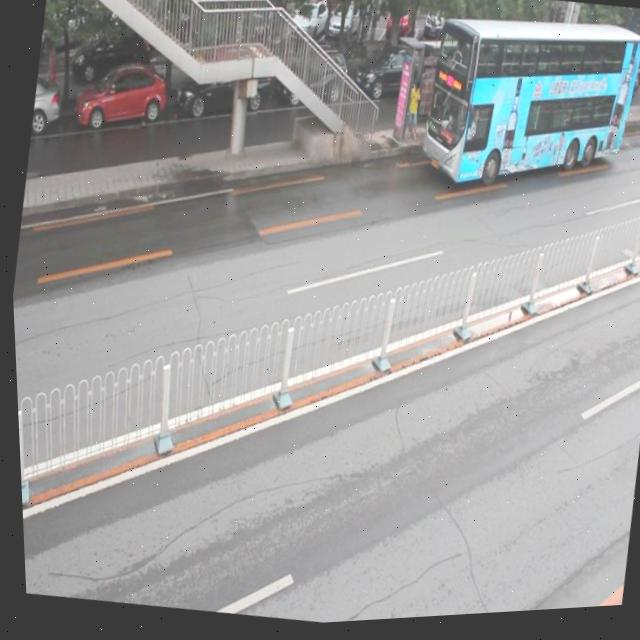car: (69, 56, 171, 144), (170, 55, 274, 133), (346, 44, 436, 120), (273, 46, 351, 118), (568, 66, 623, 128), (28, 76, 64, 137)
van: (409, 3, 640, 219)
